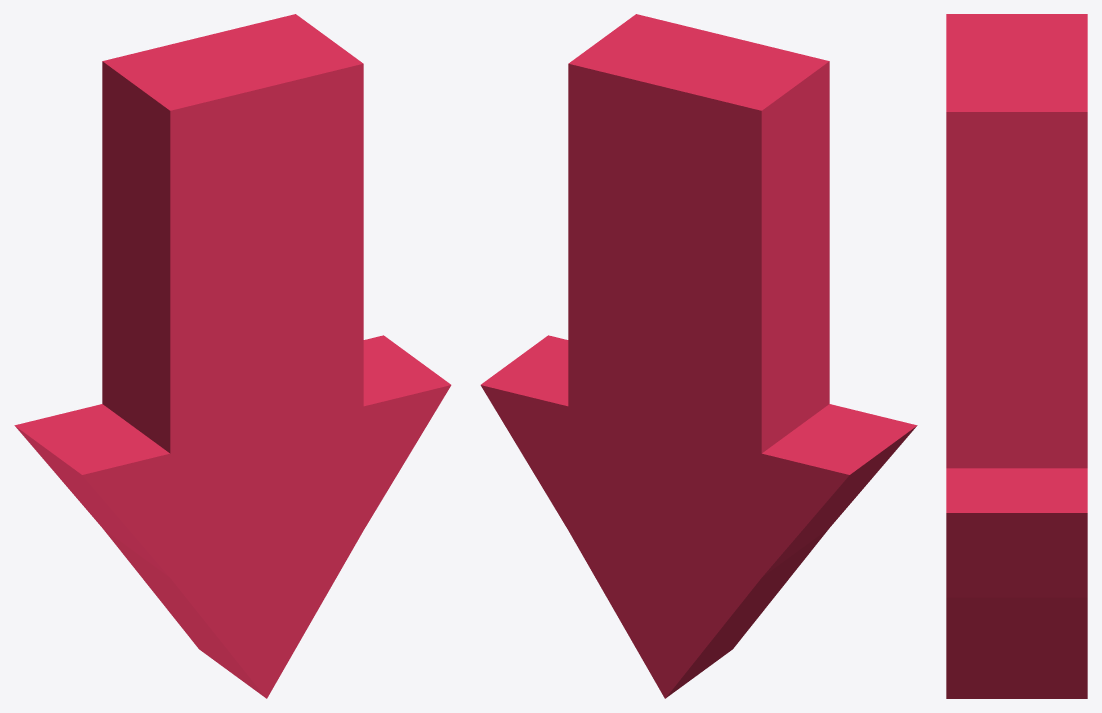
The model's file is arrow.fbx.
3 views of the same model, side by side, from view 1: azimuth 30°, elevation 25°; view 2: azimuth 150°, elevation 25°; view 3: azimuth 270°, elevation 25° (orthographic). The views are drawn at different scales.
Parts seen in each view (by area): view 1: arrow; view 2: arrow; view 3: arrow.
Boxes of the visible parts, x1=… form: arrow: x1=14, y1=14, x2=451, y2=698; arrow: x1=480, y1=14, x2=917, y2=698; arrow: x1=946, y1=14, x2=1087, y2=698.
Bounding box in the file's own units: 7.77 × 12.31 × 2.47.
Materials: 1 (1 with a texture image).
